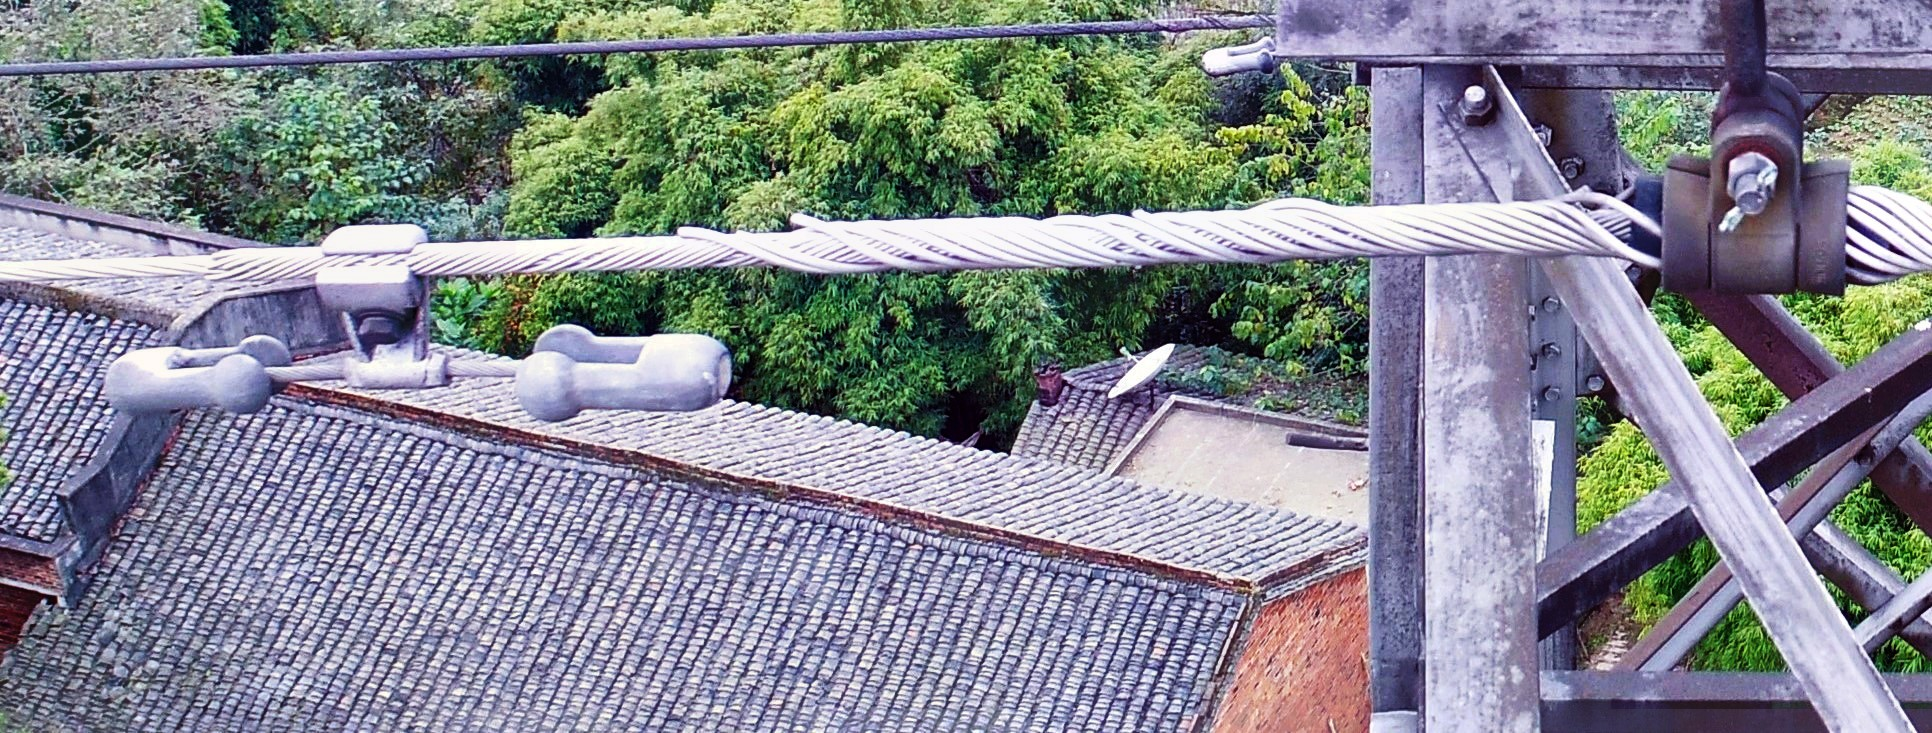Shockproof hammer: (87, 196, 745, 437)
